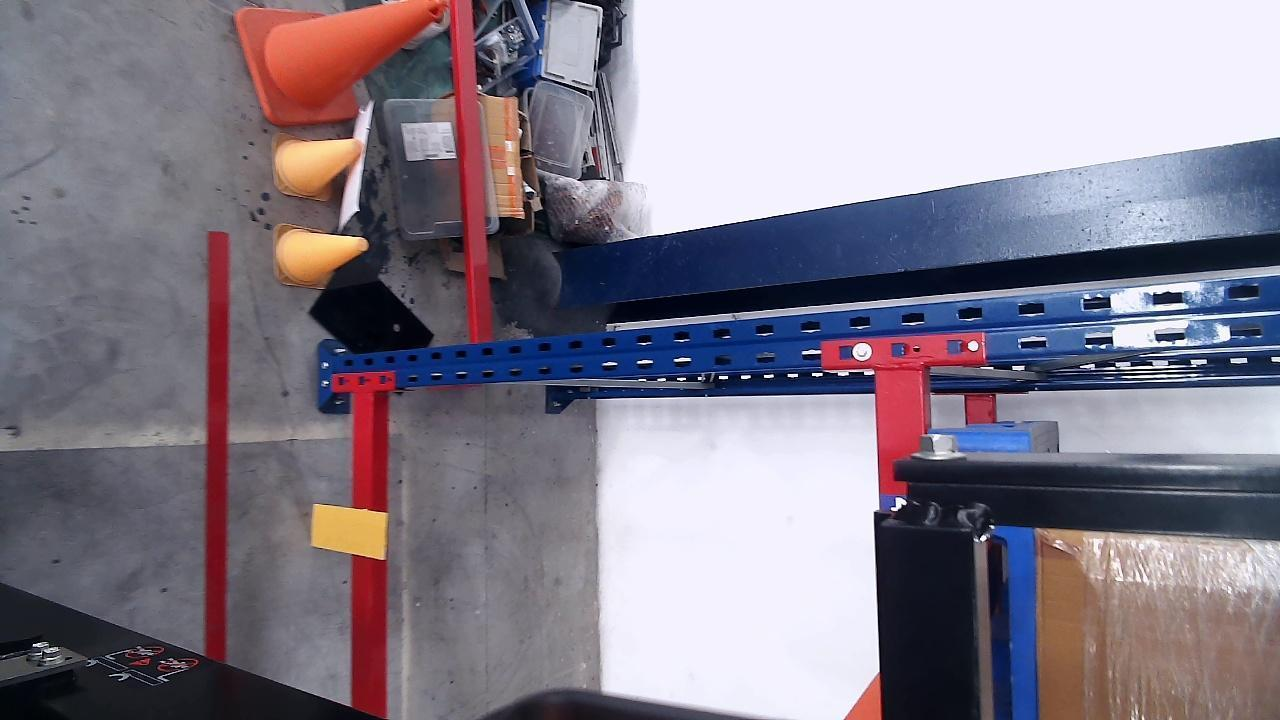red_line: (207, 231, 228, 661)
